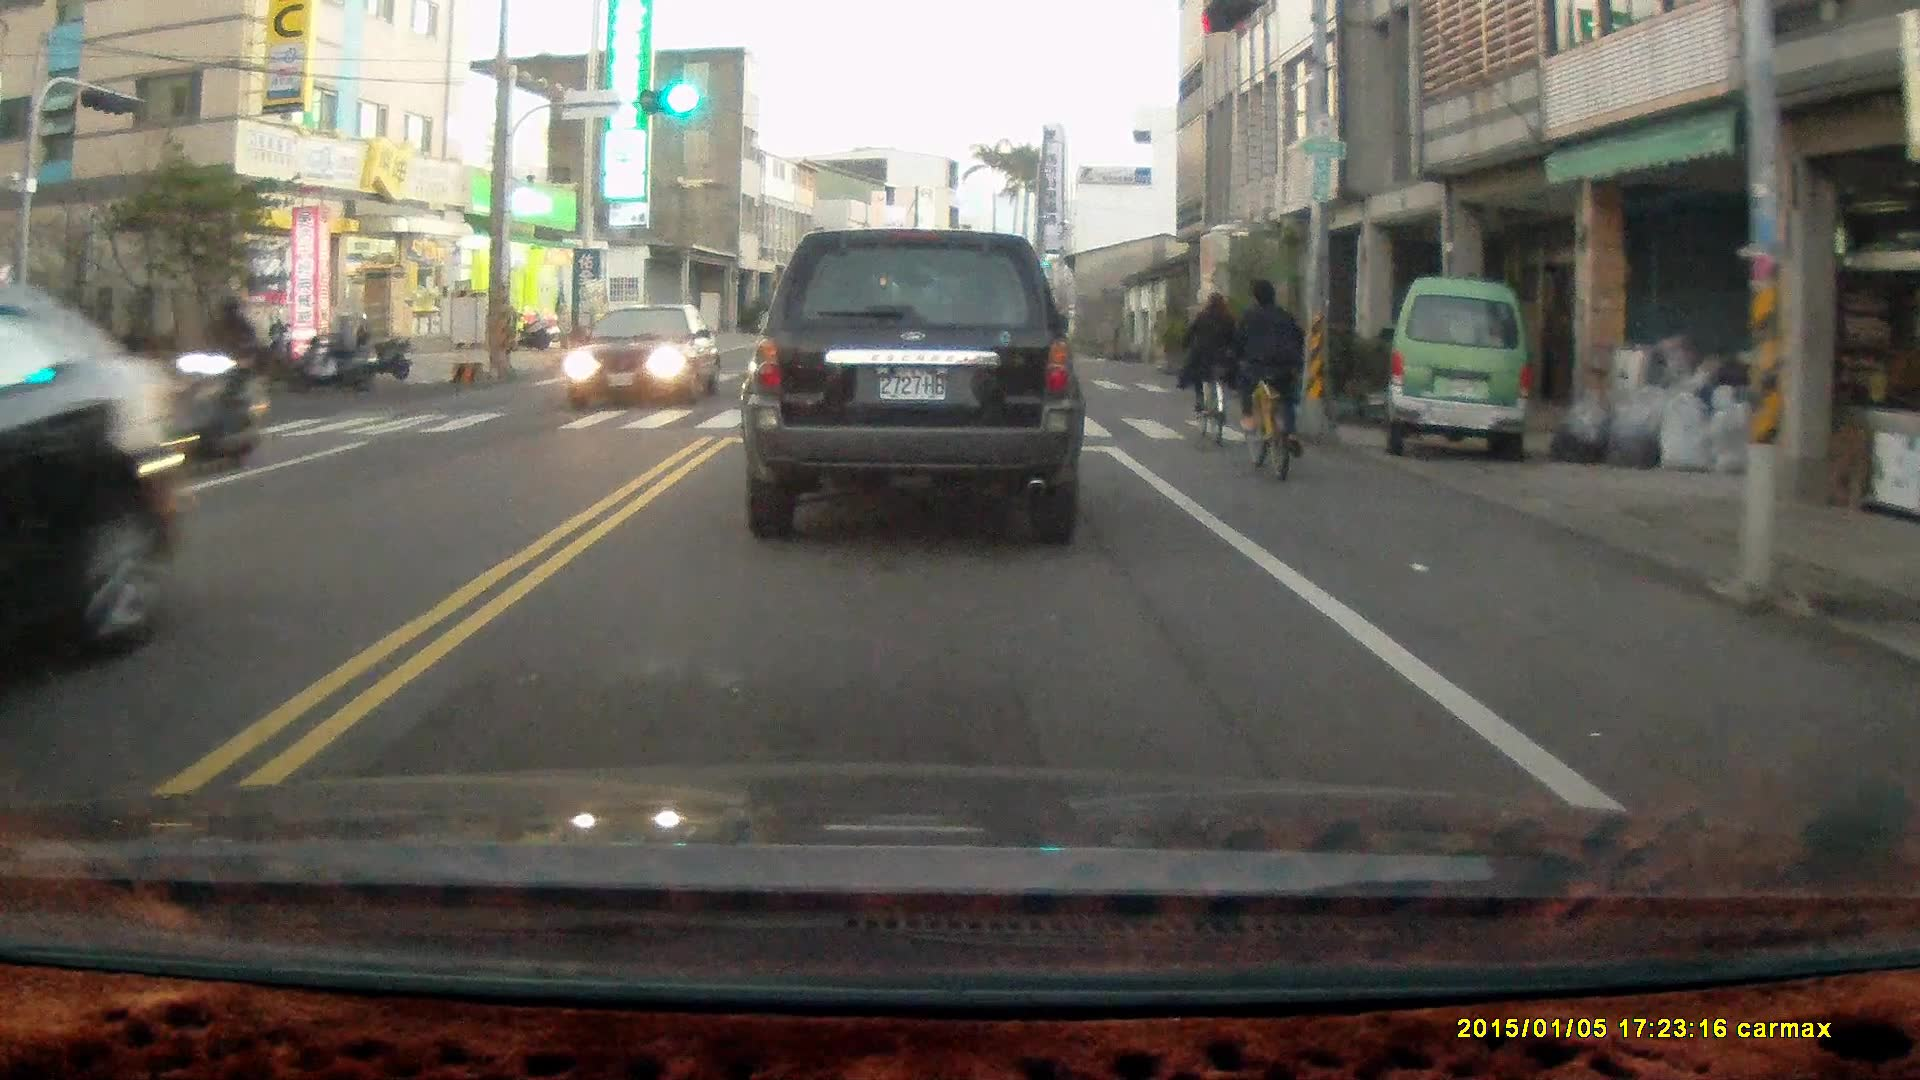rider: (163, 289, 271, 477), (1223, 274, 1306, 481), (1176, 290, 1236, 446), (287, 308, 374, 394)
vehicle: (748, 225, 1086, 539), (1, 276, 186, 701), (1383, 278, 1534, 469), (564, 302, 726, 413)
